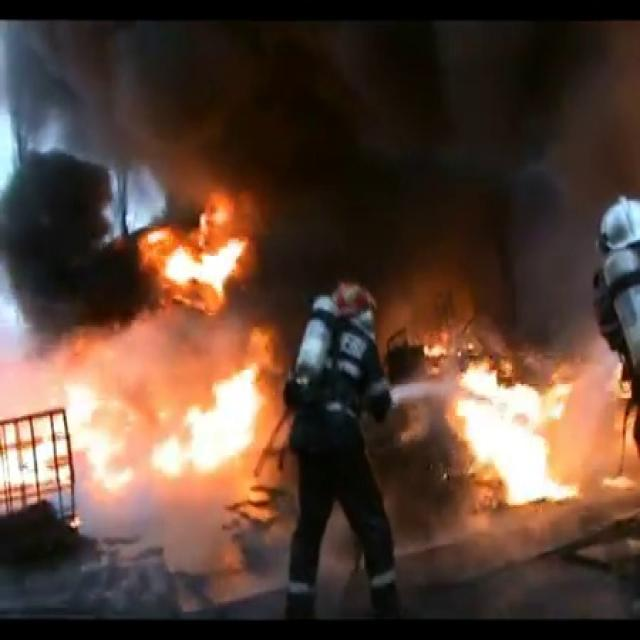Fire: (0, 335, 276, 509), (445, 351, 585, 508), (147, 196, 255, 300)
Smoke: (11, 21, 640, 290)
